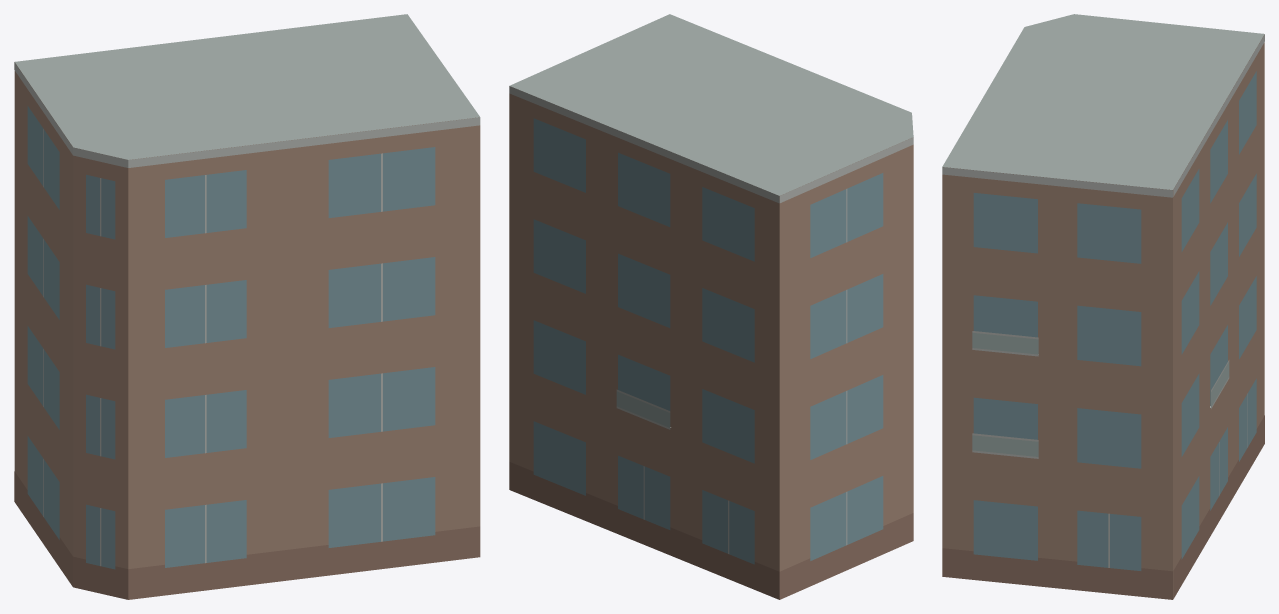
The model's file is survey-upis-32528023.glb.
3 renders of one model, left to right at view 1: azimuth 30°, elevation 25°; view 2: azimuth 150°, elevation 25°; view 3: azimuth 270°, elevation 25°, orthographic. The views are drawn at different scales.
Visible parts, largest first — view 1: survey-upis-32528023.tmp; view 2: survey-upis-32528023.tmp; view 3: survey-upis-32528023.tmp.
Part boxes in pixels (x1,y1,x2,y2): survey-upis-32528023.tmp: [14, 14, 480, 599]; survey-upis-32528023.tmp: [509, 14, 913, 599]; survey-upis-32528023.tmp: [942, 14, 1264, 599].
Size of the model in its own units: 12.08 by 13.1 by 9.36.
